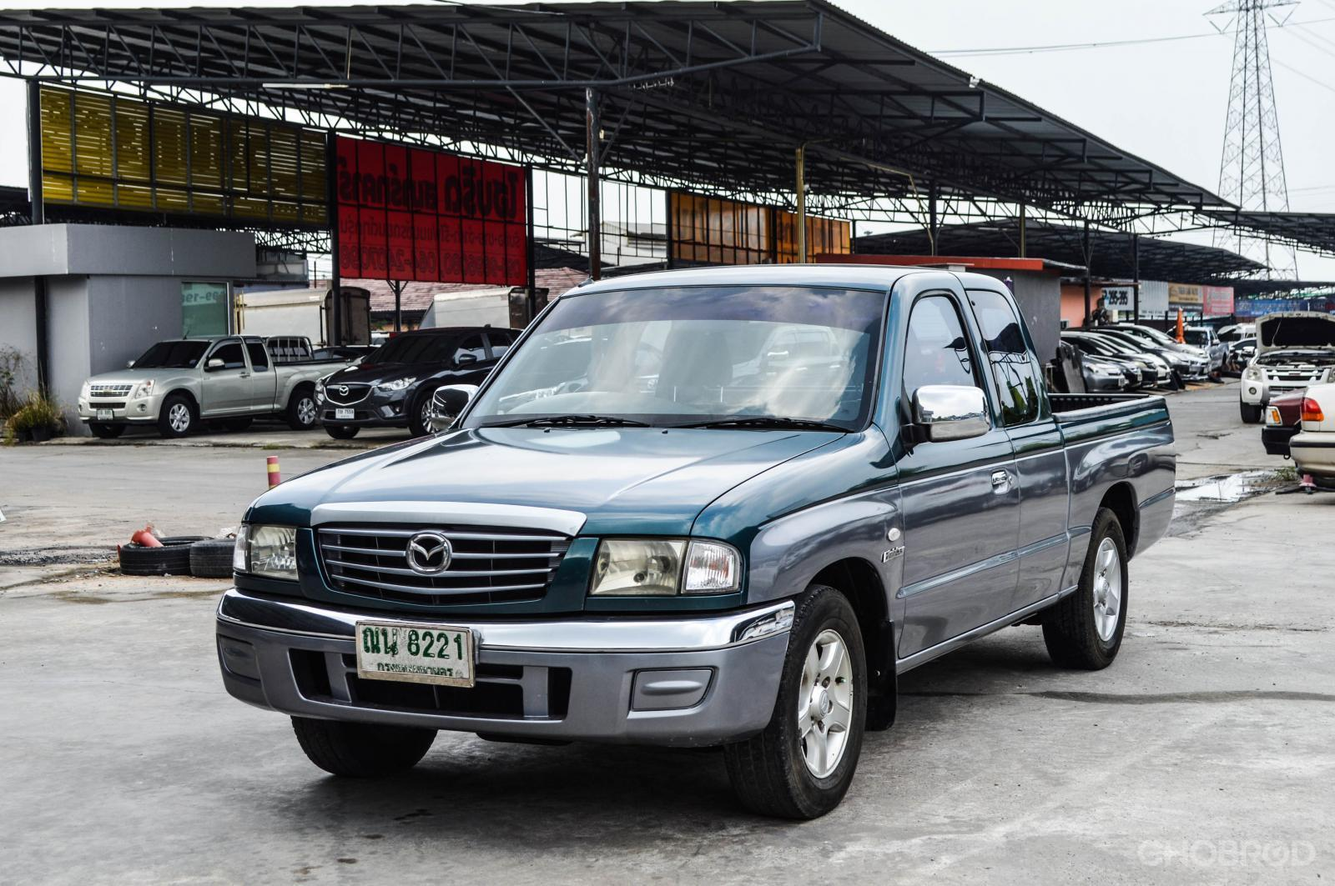license-plate: (353, 618, 479, 689)
